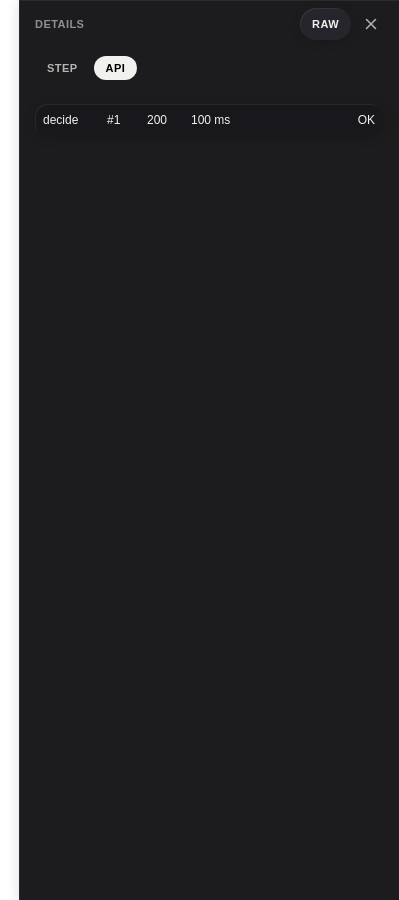
Test: FlightDrawer › shows served model and swap warning when model differs from requested
The width and height of the screenshot is (399, 900).
Click the button with test id "call" at (209, 120), box [35, 104, 383, 136]
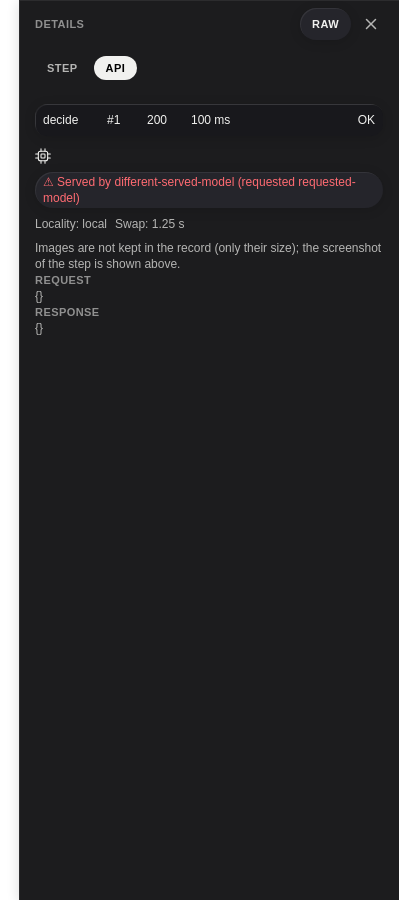
Now the element with test id "call-model-info" is shown, box [35, 148, 383, 232]
Now the text with test id "model-mismatch-warning" shows "Served by different-served-model (requested requested-model)", box [43, 175, 356, 205]
Now the element with test id "call-model-info" shows "Swap: 1.25 s", box [115, 217, 184, 231]
